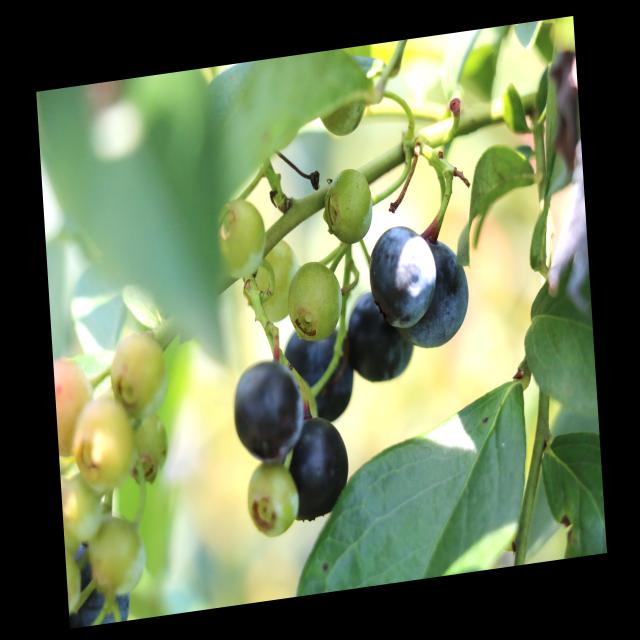blueberry: (388, 230, 473, 356), (277, 315, 360, 432), (228, 349, 309, 468), (364, 218, 442, 334), (280, 411, 354, 528), (343, 280, 420, 390)
blueberry-unripe: (71, 393, 137, 486), (108, 328, 173, 422), (242, 237, 297, 327), (242, 457, 299, 542), (90, 514, 147, 597), (322, 164, 375, 248), (213, 196, 264, 282), (286, 258, 342, 335), (314, 98, 370, 141)
